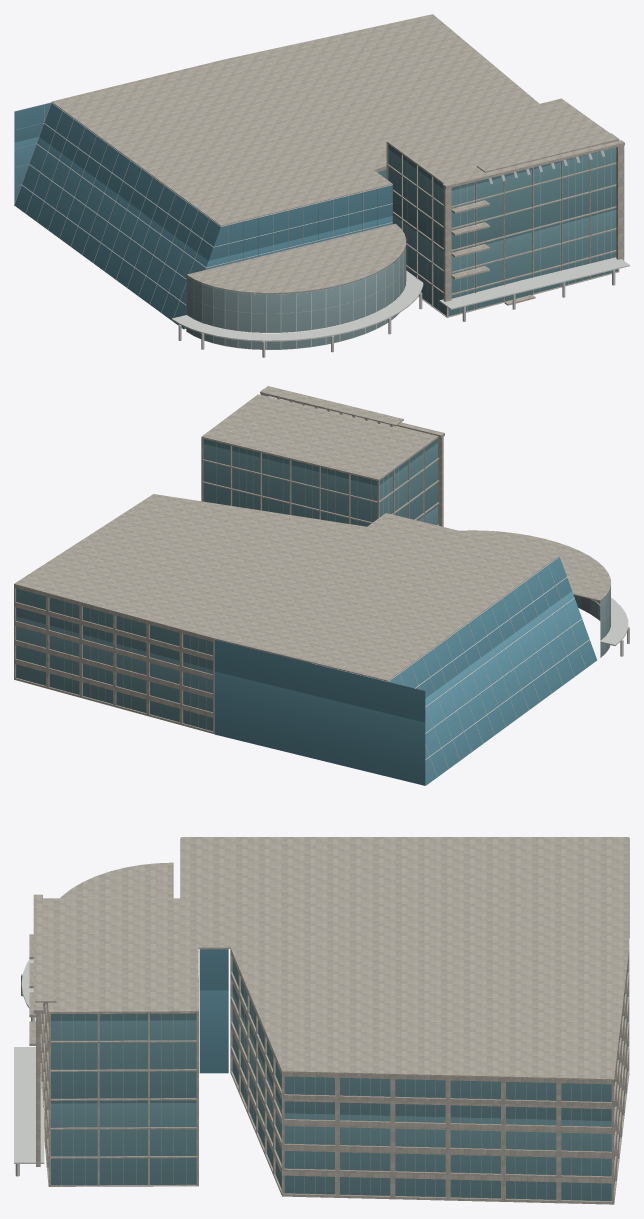
The picture shows the model from 3 angles, top to bottom: view 1: azimuth 30°, elevation 25°; view 2: azimuth 150°, elevation 25°; view 3: azimuth 270°, elevation 25°; orthographic projection. The views are drawn at different scales.
Visible parts, largest first — view 1: osm639992759__stone, osm639992759__glassSlope, osm639992759__glass, osm639992759__glassCore, osm639992759__steel, osm639992759__frame, osm639992759__column; view 2: osm639992759__stone, osm639992759__glassSlope, osm639992759__glass, osm639992759__frame, osm639992759__steel, osm639992759__glassCore; view 3: osm639992759__stone, osm639992759__glass, osm639992759__frame, osm639992759__glassSlope, osm639992759__steel.
Part boxes in pixels (x1,y1,x2,y2): osm639992759__stone: (51,14,624,317); osm639992759__glassSlope: (14,103,392,329); osm639992759__glass: (378,144,617,315); osm639992759__glassCore: (186,242,406,349); osm639992759__steel: (21,102,629,349); osm639992759__frame: (14,102,617,320); osm639992759__column: (178,270,615,357); osm639992759__stone: (14,386,610,734); osm639992759__glassSlope: (214,557,597,785); osm639992759__glass: (16,438,437,730); osm639992759__frame: (16,442,585,785); osm639992759__steel: (276,397,628,759); osm639992759__glassCore: (573,587,610,657); osm639992759__stone: (29,837,629,1204); osm639992759__glass: (51,958,627,1200); osm639992759__frame: (41,838,629,1201); osm639992759__glassSlope: (199,949,228,1073); osm639992759__steel: (14,838,180,1163).
Bounding box in the file's own units: 86.07 × 26.74 × 81.08.
Materials: 7 (4 with a texture image).
